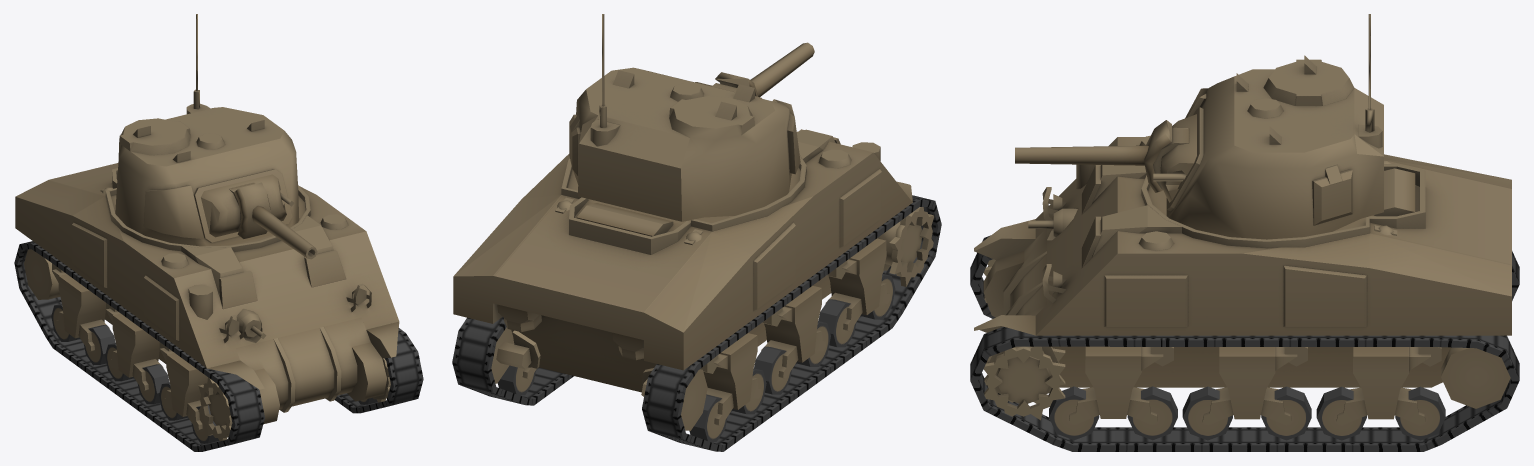
Rendered from M4Sherman.fbx.
3 views of the same model, side by side, from view 1: azimuth 30°, elevation 25°; view 2: azimuth 150°, elevation 25°; view 3: azimuth 270°, elevation 25° (orthographic). The views are drawn at different scales.
Visible parts, largest first — view 1: Hull, Turret, Barrel; view 2: Hull, Turret, Barrel; view 3: Hull, Turret, Barrel.
Boxes of the visible parts, left/top/right/bottom form: Hull: left=14, top=163, right=423, bottom=451; Turret: left=115, top=14, right=299, bottom=246; Barrel: left=201, top=174, right=317, bottom=259; Hull: left=452, top=129, right=941, bottom=451; Turret: left=569, top=14, right=800, bottom=221; Barrel: left=695, top=42, right=814, bottom=98; Hull: left=970, top=135, right=1519, bottom=451; Turret: left=1166, top=14, right=1383, bottom=239; Barrel: left=1015, top=114, right=1196, bottom=202.
Size of the model in its own units: 262 by 405 by 507.
